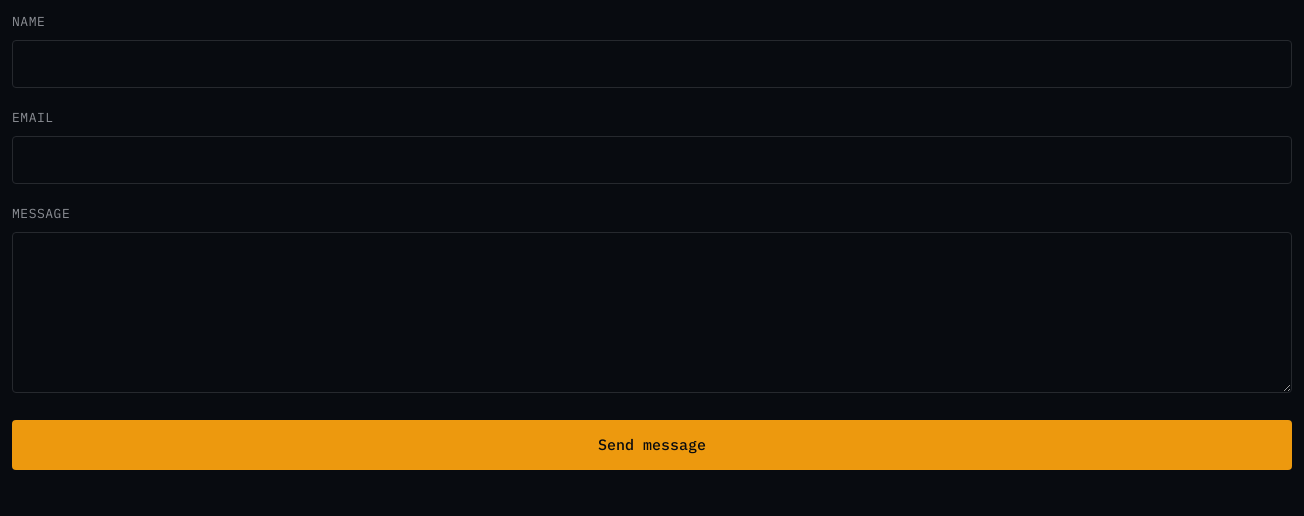
Test: ContactForm › blocks an invalid submission before it reaches the network
The width and height of the screenshot is (1304, 516).
Step 1. Type "Rej" into the field labelled "Name" → point(652, 64), box [12, 40, 1292, 88]
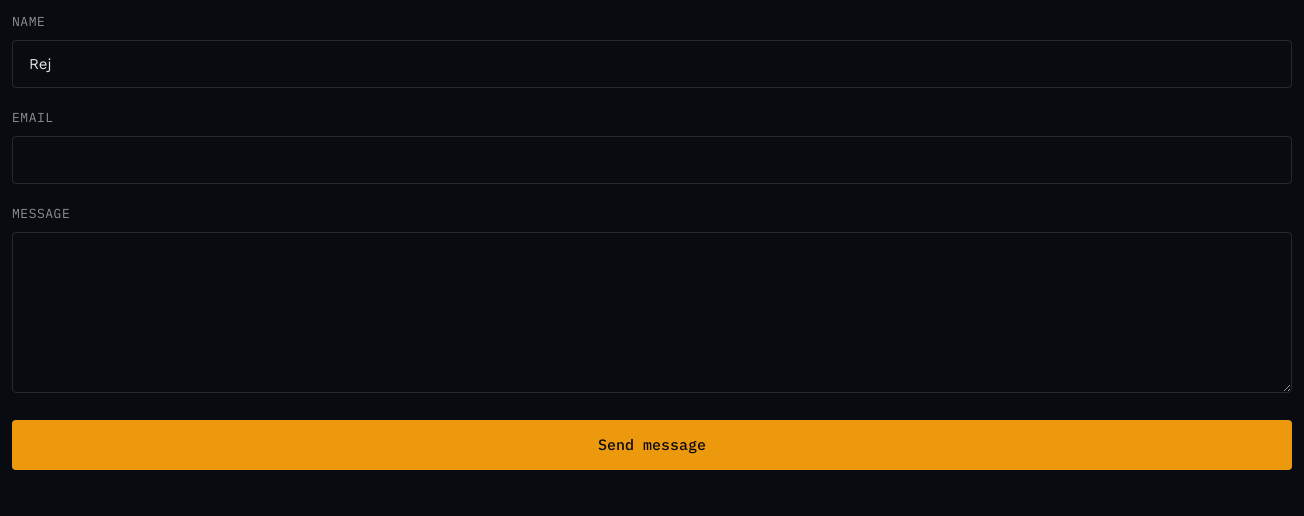
Step 2. Type "not-an-email" into the field labelled "Email" → point(652, 160), box [12, 136, 1292, 184]
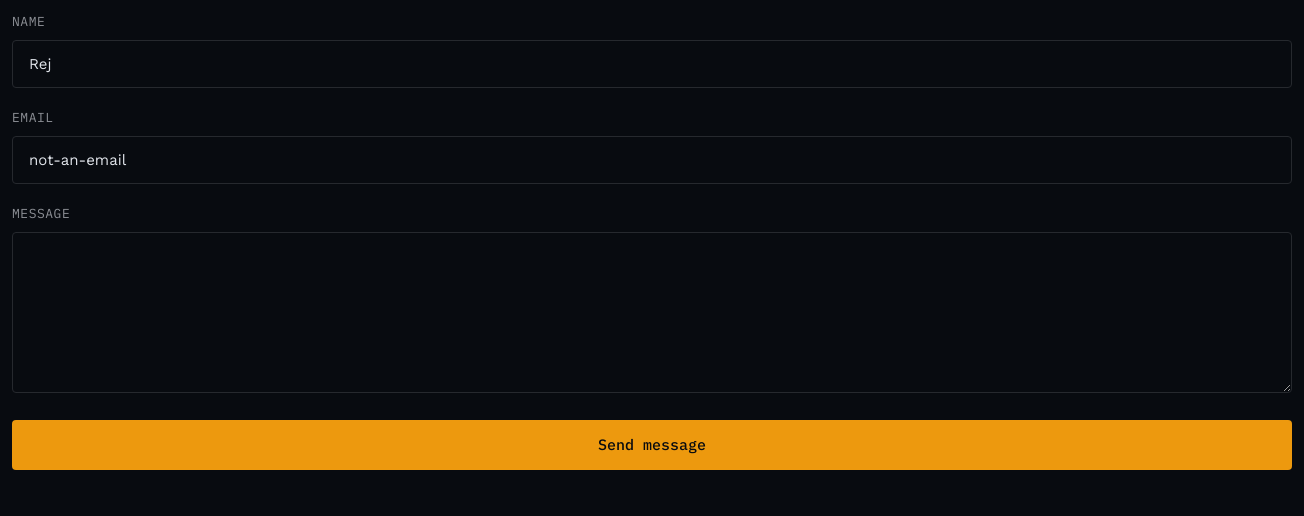
Step 3. Type "I would like to talk about a project." into the text box labelled "Message" → point(652, 312), box [12, 232, 1292, 392]
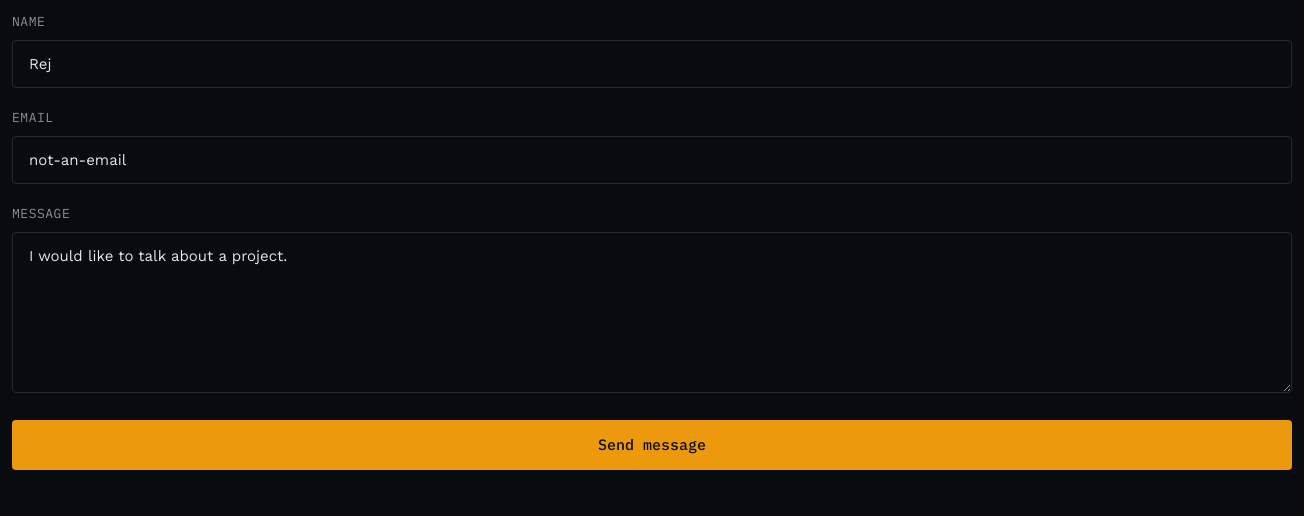
Step 4. Click the button "Send message" → point(652, 445), box [12, 420, 1292, 470]
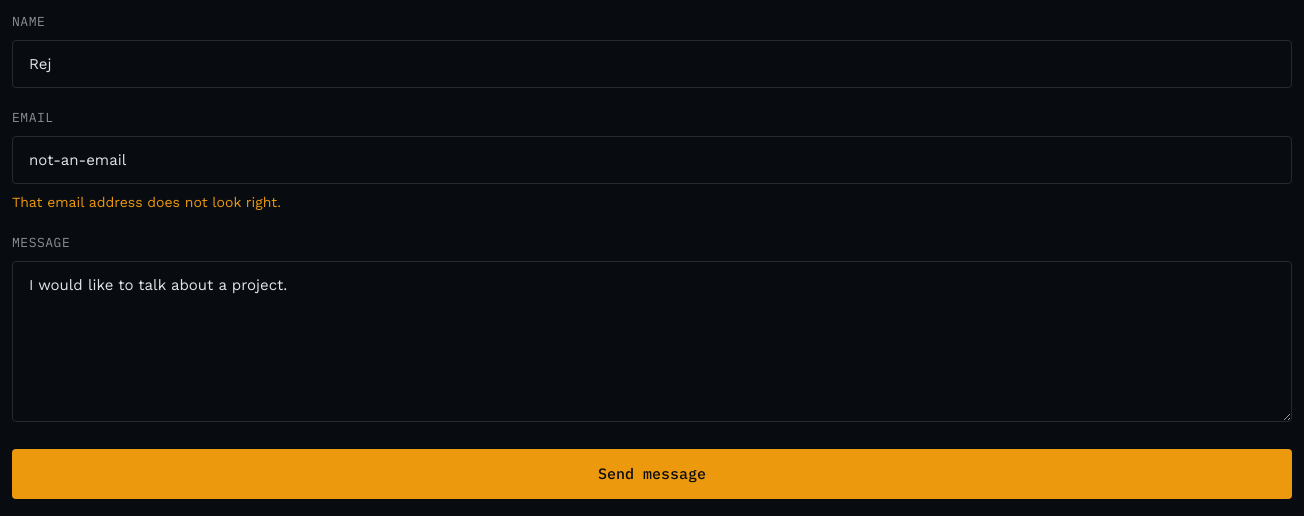
Now the text "That email address does not look right." is shown, box [12, 194, 281, 210]
